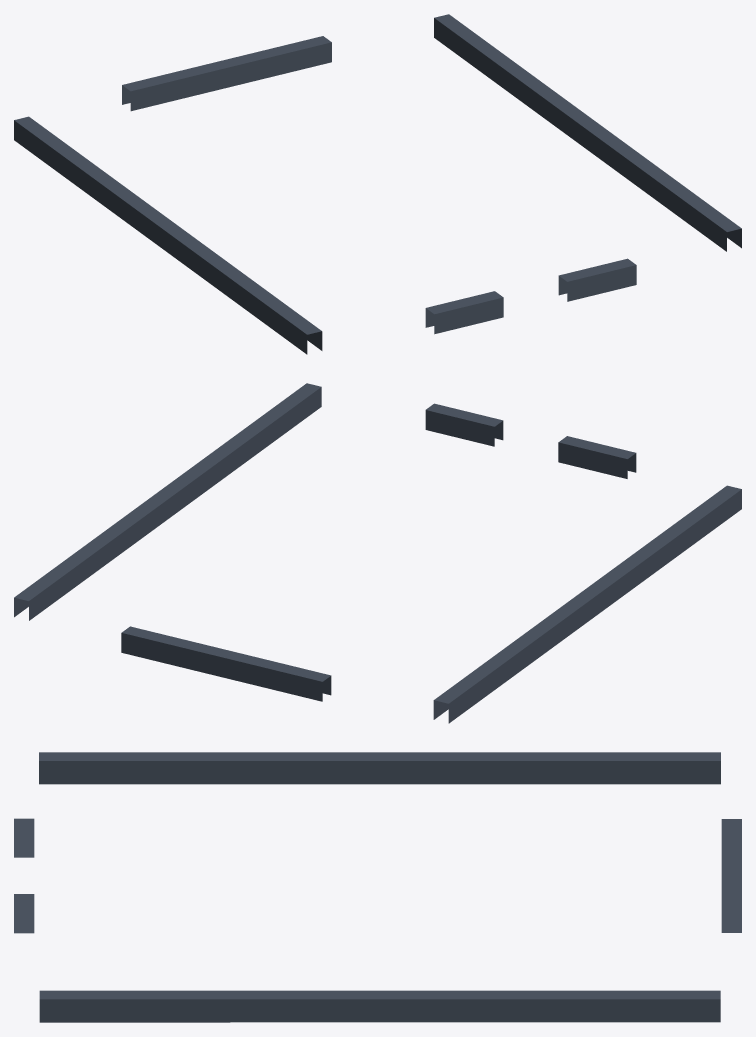
Rendered from Arena2_Fence.fbx.
3 renders of one model, top to bottom at view 1: azimuth 30°, elevation 25°; view 2: azimuth 150°, elevation 25°; view 3: azimuth 270°, elevation 25°, orthographic. The views are drawn at different scales.
Parts seen in each view (by area): view 1: Walls; view 2: Walls; view 3: Walls.
Boxes of the visible parts, bbox=[...] form: Walls: bbox=[14, 14, 741, 354]; Walls: bbox=[14, 383, 741, 723]; Walls: bbox=[14, 752, 741, 1022].
Size of the model in its own units: 13204 by 580 by 16461.
